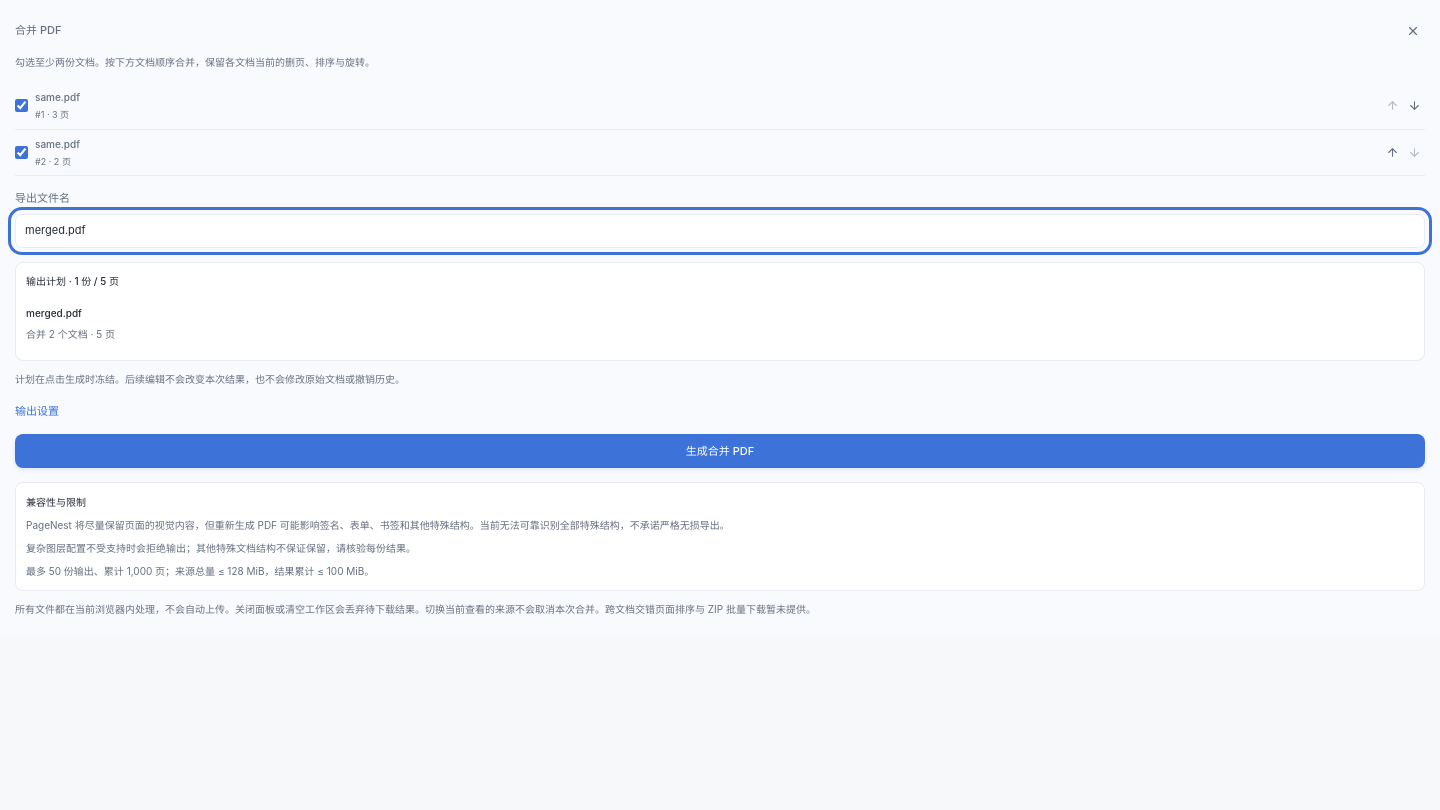
Test: PDF merge and split operation panel › cancels results when the mode or source changes and when the panel unmounts
Click the button "生成合并 PDF": click(720, 451) [15,434,1425,468]
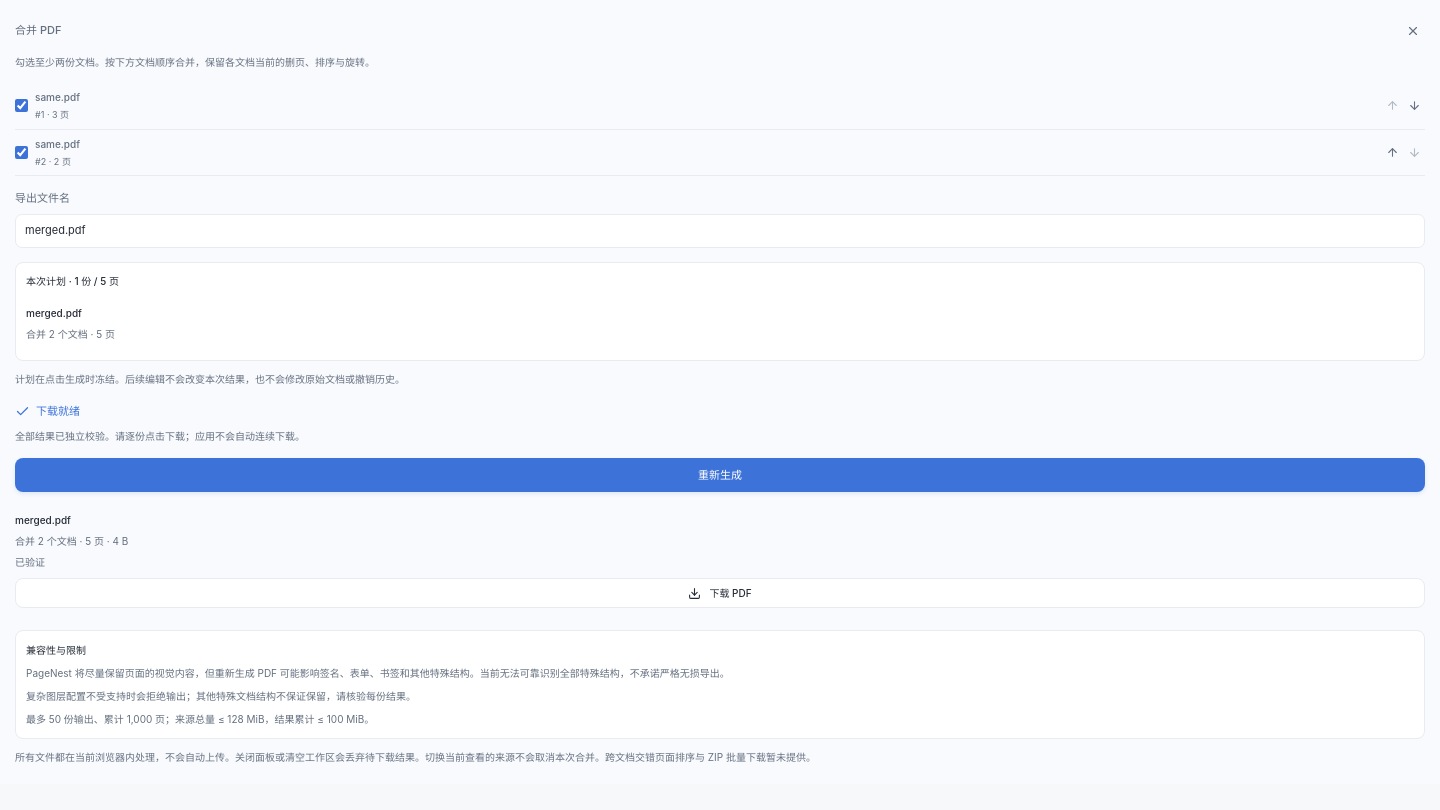
Now the list named "已验证输出结果" is shown, box [15,504,1425,616]
